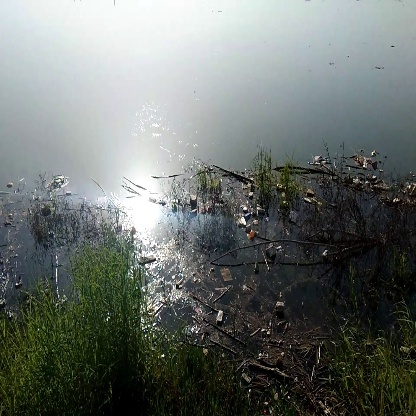branch: (211, 233, 361, 269)
